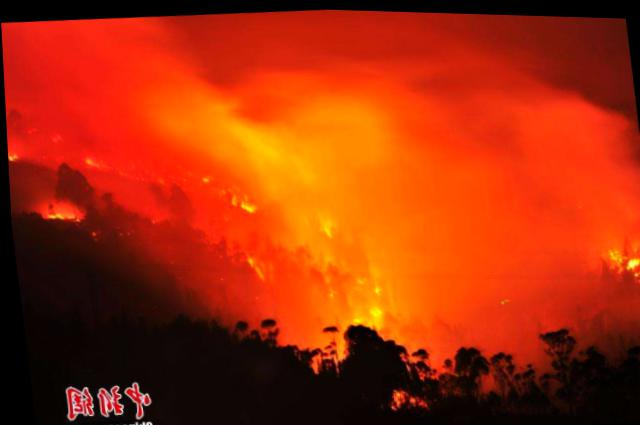fire: (308, 199, 394, 338), (195, 162, 262, 224), (601, 234, 639, 285), (234, 246, 267, 282), (43, 201, 82, 222)
